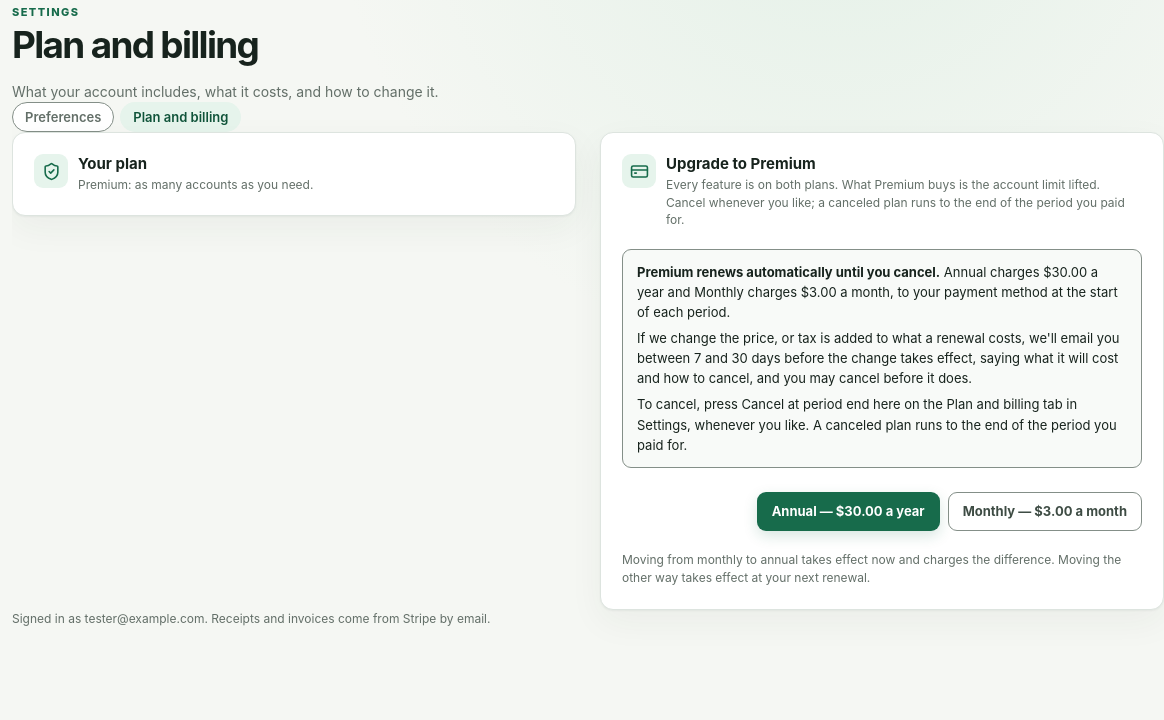
the renewal terms › hold the confirm button while the plan being started has no price
The image size is (1164, 720).
Click the button "Monthly — $3.00 a month".
click(1045, 511)  # box top-left (948, 492), bottom-right (1142, 531)
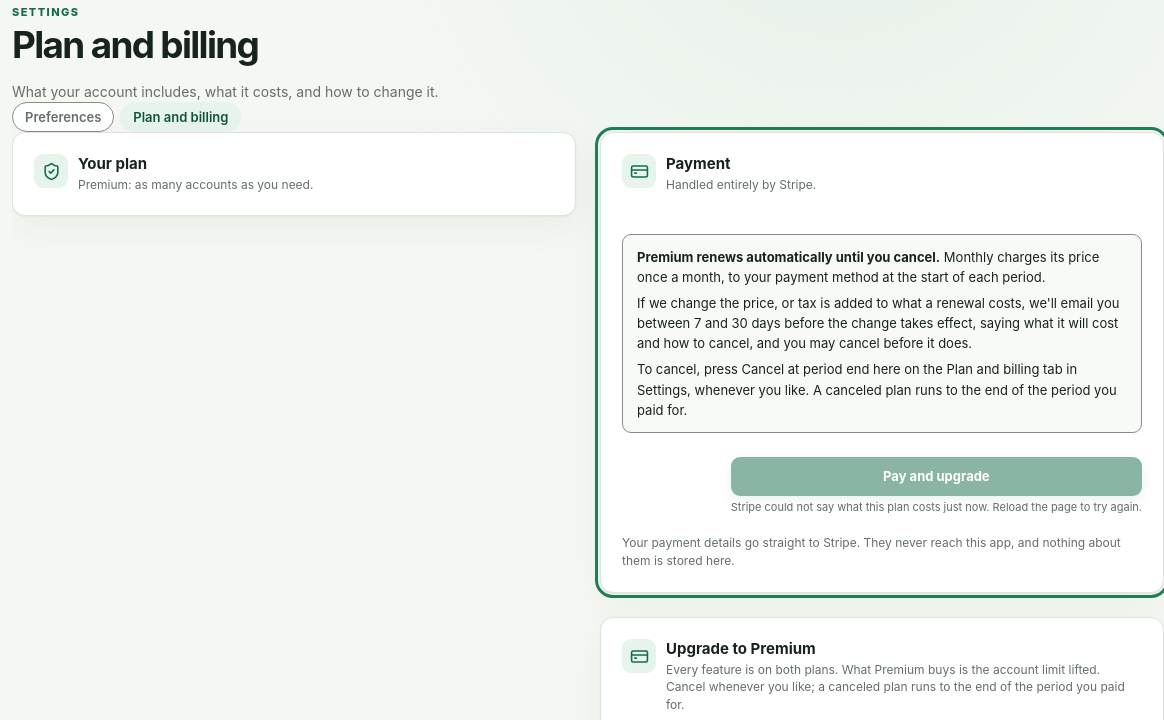
Expected: the button "Pay and upgrade" is disabled, top-left (731, 457), bottom-right (1142, 496)
